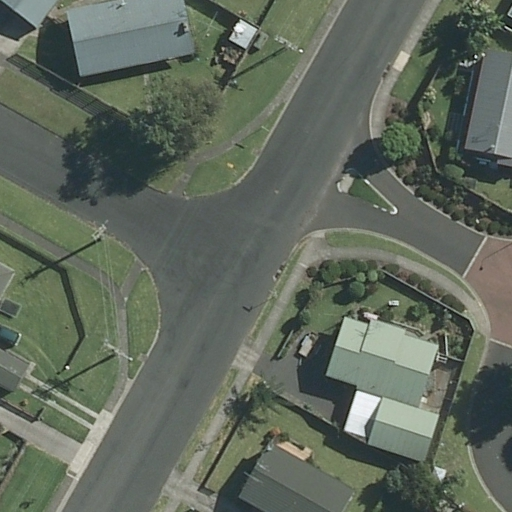DT: (82, 221, 110, 242), (275, 36, 304, 56), (101, 344, 133, 362)
